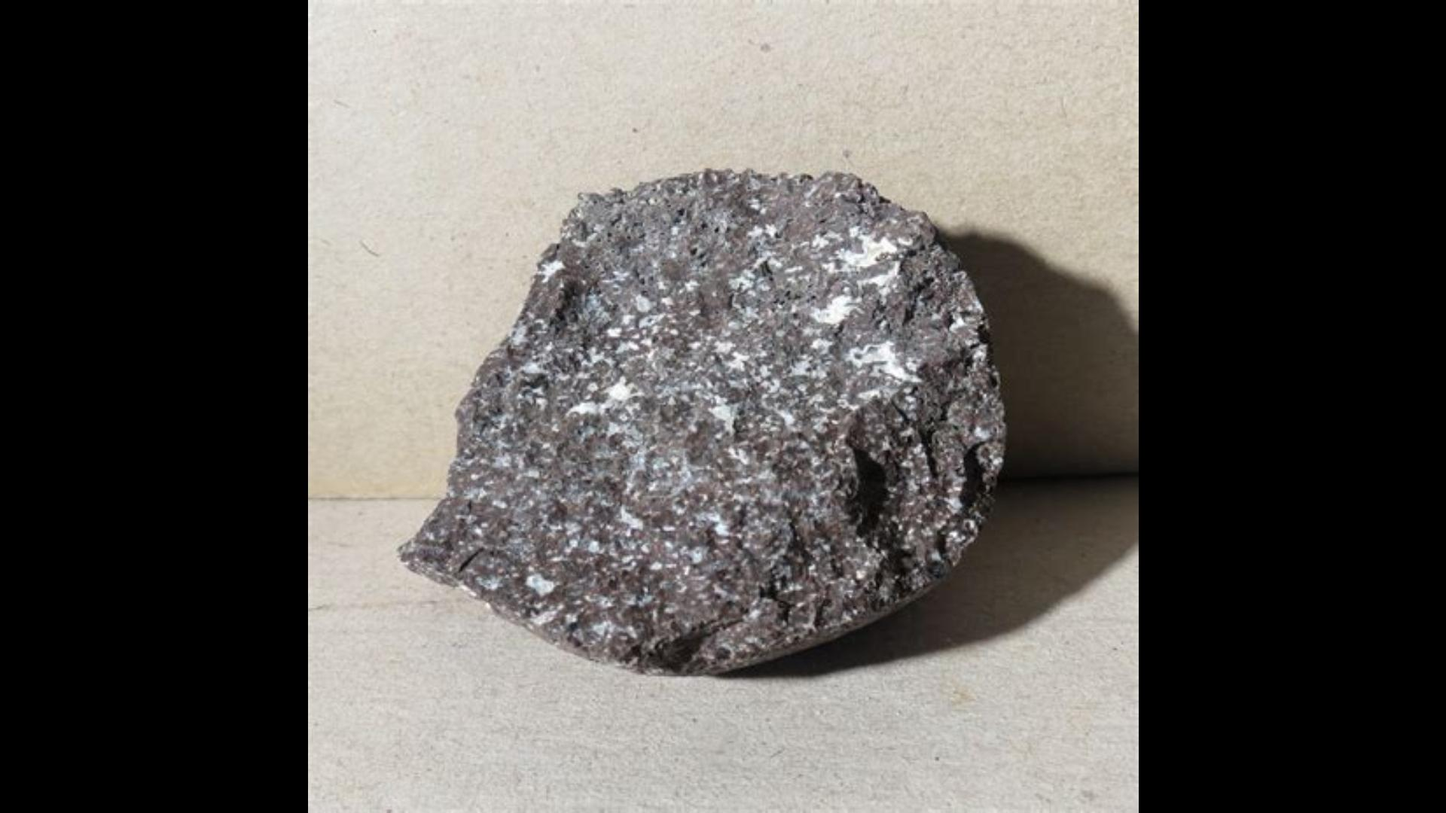rock: (400, 170, 1000, 673)
